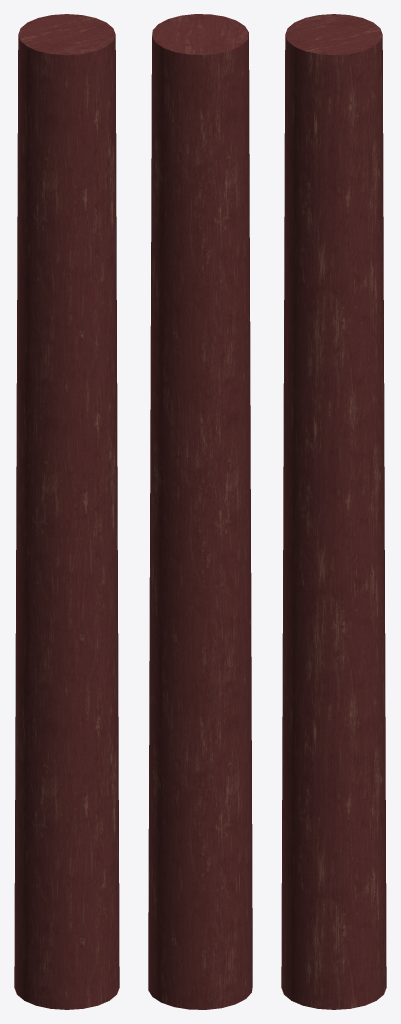
The model's file is SM_Pillar01a.fbx.
3 renders of one model, left to right at view 1: azimuth 90°, elevation 25°; view 2: azimuth 150°, elevation 25°; view 3: azimuth 270°, elevation 25°, orthographic.
Parts seen in each view (by area): view 1: SM_Pillar01a; view 2: SM_Pillar01a; view 3: SM_Pillar01a.
Part boxes in pixels (x1,y1,x2,y2): SM_Pillar01a: [14, 14, 119, 1009]; SM_Pillar01a: [148, 14, 252, 1009]; SM_Pillar01a: [281, 14, 386, 1009].
Size of the model in its own units: 30 by 30 by 300.
Materials: 1 (1 with a texture image).
